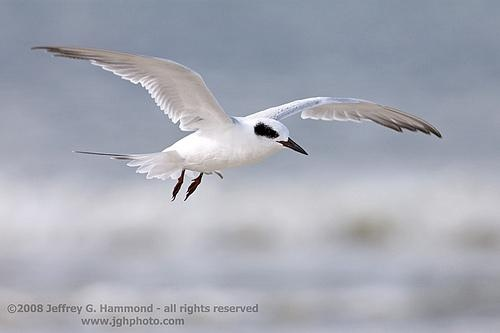bird: (29, 45, 443, 202)
